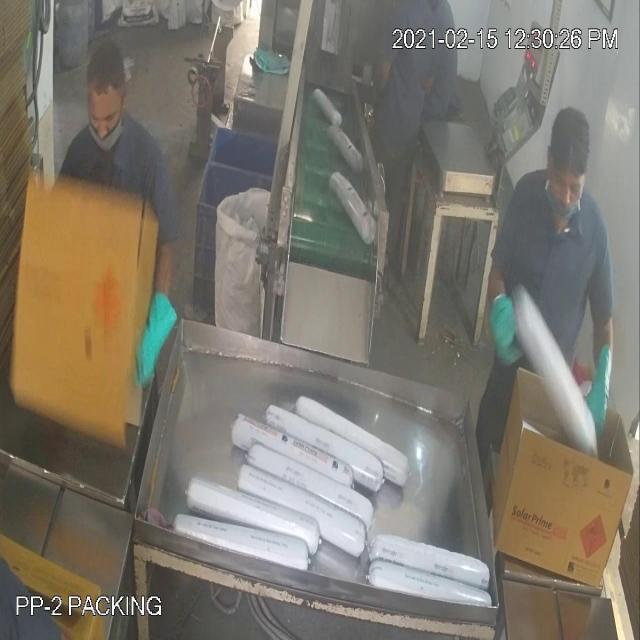Gloves: (39, 86, 598, 383)
